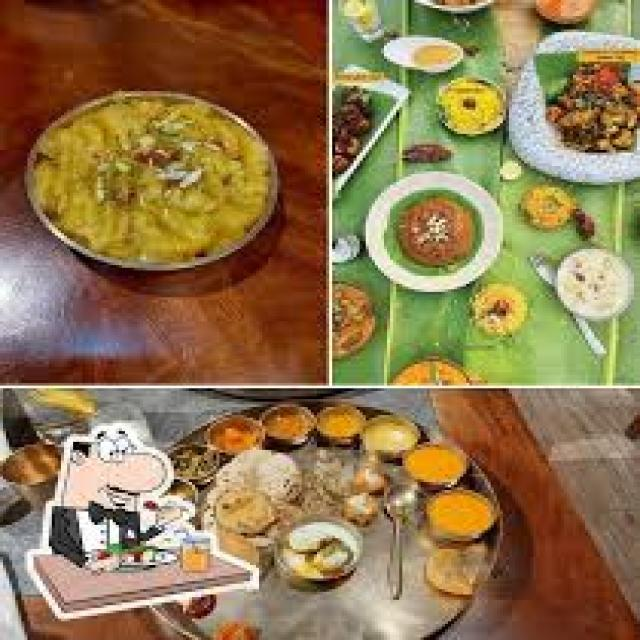dal: (415, 484, 502, 540), (398, 442, 471, 485)
pickle: (545, 45, 640, 155), (386, 182, 498, 273), (334, 281, 382, 353), (397, 142, 460, 170)
roti: (199, 453, 291, 552), (287, 453, 366, 522)
sweet: (559, 252, 632, 320), (206, 617, 269, 640)
veg-fry: (46, 94, 263, 261), (196, 412, 265, 458)
